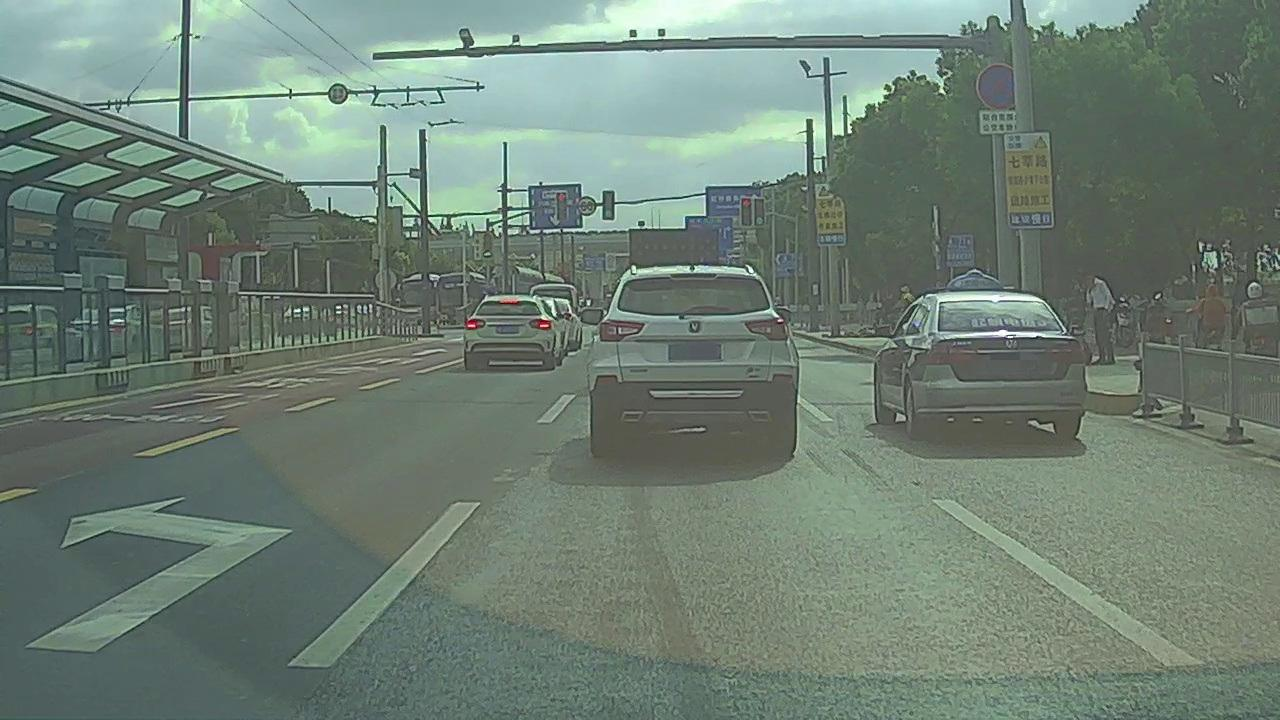traffic_light: (601, 190, 613, 220), (740, 197, 752, 226), (753, 198, 764, 227), (555, 191, 565, 219)
